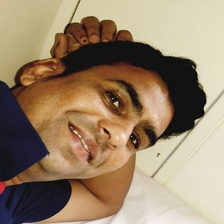no_mask: (25, 68, 172, 175)
